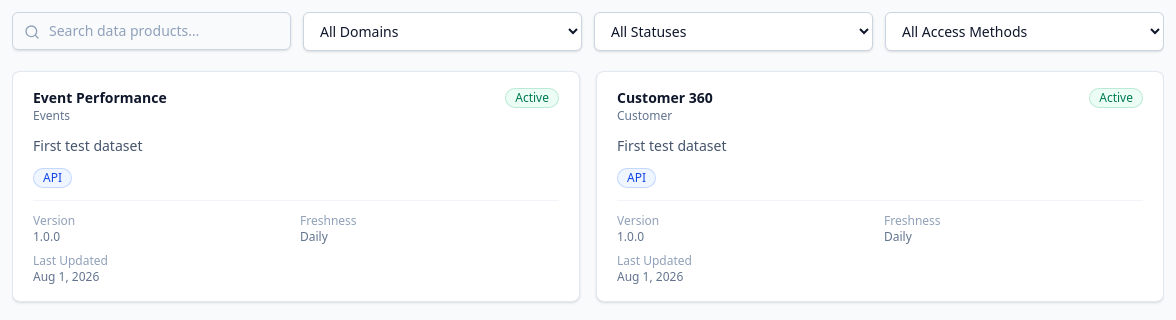
DatasetExplorer › filters data products by search query
Step 1. Type "customer" into the field with placeholder "Search data products…" → (152, 31), box top-left (12, 12), bottom-right (291, 50)
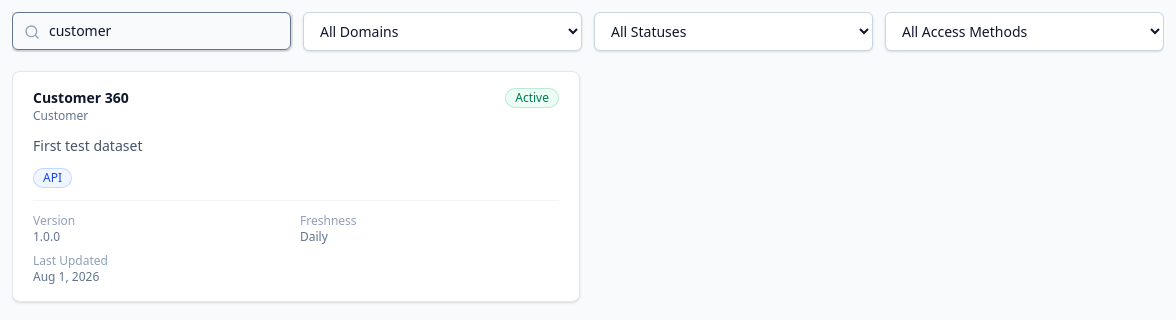
Expected: the text "Customer 360" is shown, top-left (33, 88), bottom-right (129, 108)
Now the link "Event Performance" is gone
